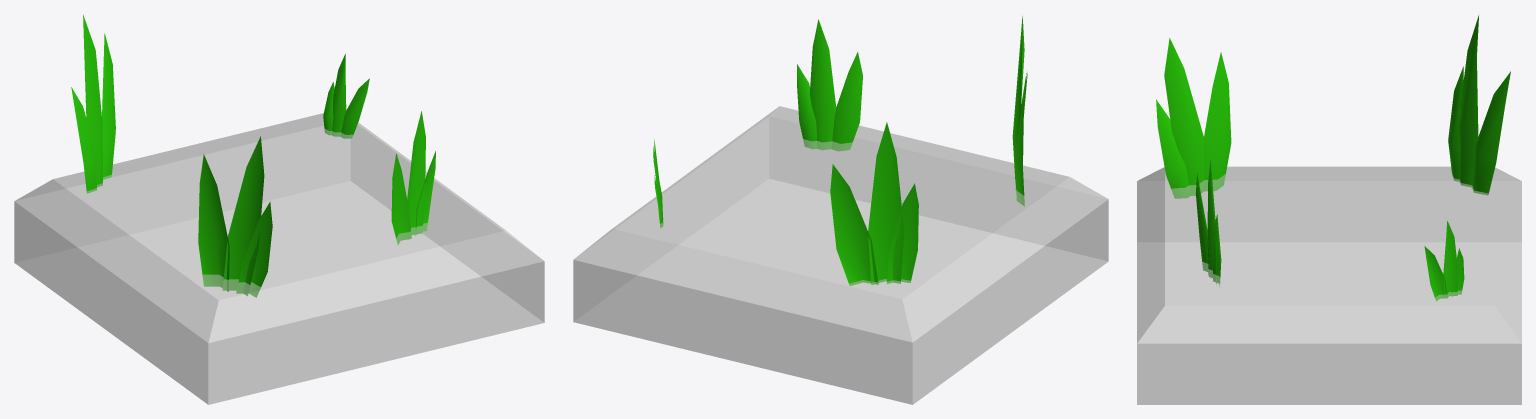
Rendered from Tile_Grass.fbx.
The picture shows the model from 3 angles, left to right: view 1: azimuth 30°, elevation 25°; view 2: azimuth 150°, elevation 25°; view 3: azimuth 270°, elevation 25°; orthographic projection.
Visible parts, largest first — view 1: Tile_Grass; view 2: Tile_Grass; view 3: Tile_Grass.
Part boxes in pixels (<box>): Tile_Grass: <box>14,14,544,404</box>; Tile_Grass: <box>573,16,1108,404</box>; Tile_Grass: <box>1137,15,1521,404</box>.
Bounding box in the file's own units: 2 × 1.44 × 2.
